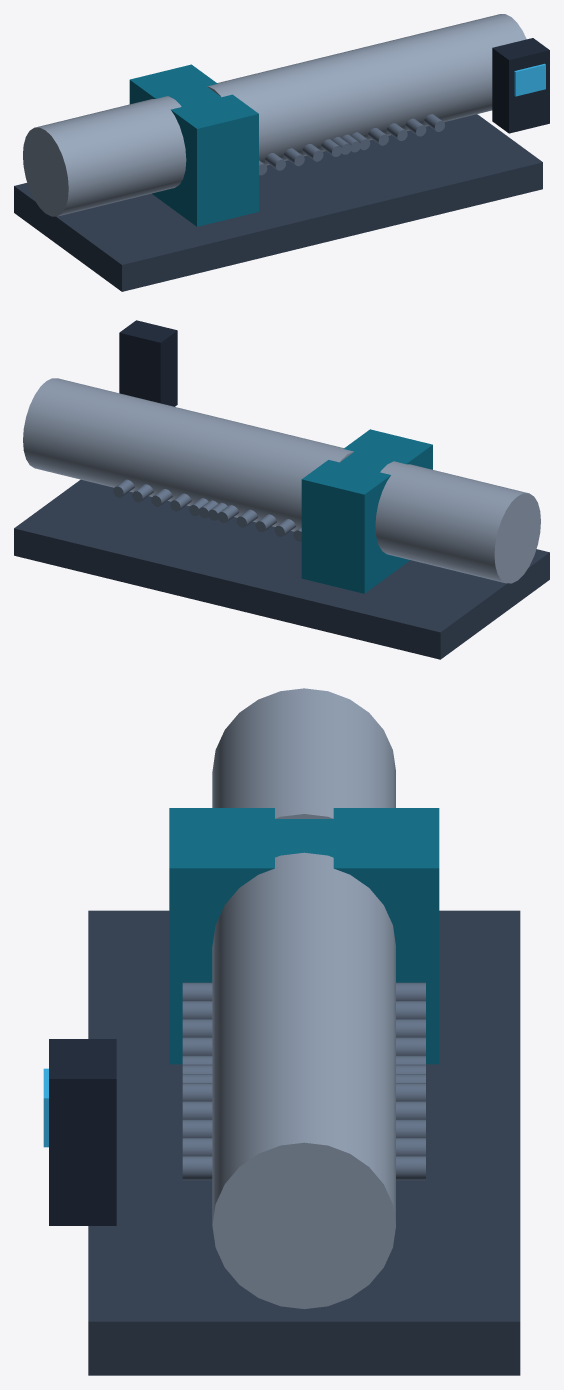
3 renders of one model, top to bottom at view 1: azimuth 30°, elevation 25°; view 2: azimuth 150°, elevation 25°; view 3: azimuth 270°, elevation 25°, orthographic. The views are drawn at different scales.
Parts seen in each view (by area): view 1: support_base, spool_0, hopper_1, roller_2, roller_3, takeup_4, operator_console, display; view 2: support_base, spool_0, hopper_1, takeup_4, roller_2, roller_3, operator_console; view 3: support_base, takeup_4, hopper_1, spool_0, roller_3, roller_2, operator_console, roller_idler_3_5, roller_idler_2_3, roller_idler_3_2, roller_idler_2_0, roller_idler_2_2 (+4 smaller).
Boxes of the visible parts, x1,y1,x2,y2 form: support_base: (14,114,542,291); spool_0: (23,96,186,216); hopper_1: (129,64,258,226); roller_2: (207,55,365,165); roller_3: (307,34,449,147); takeup_4: (371,14,526,131); operator_console: (492,38,549,133); display: (514,63,545,96); support_base: (14,479,549,659); spool_0: (375,461,540,583); hopper_1: (301,429,432,593); takeup_4: (23,378,183,493); roller_2: (193,420,353,531); roller_3: (108,399,272,511); operator_console: (119,320,177,406); support_base: (88,910,520,1375); takeup_4: (212,1024,395,1309); hopper_1: (169,808,439,1064); spool_0: (212,688,395,818); roller_3: (212,935,395,1142); roller_2: (212,852,395,1060); operator_console: (49,1039,116,1225); roller_idler_3_5: (182,1156,425,1180); roller_idler_2_3: (182,1037,425,1055); roller_idler_3_2: (182,1101,425,1119); roller_idler_2_0: (182,982,425,1000); roller_idler_2_2: (182,1019,425,1037).
Size of the model in its own units: 3.98 by 1.2 by 1.77.
